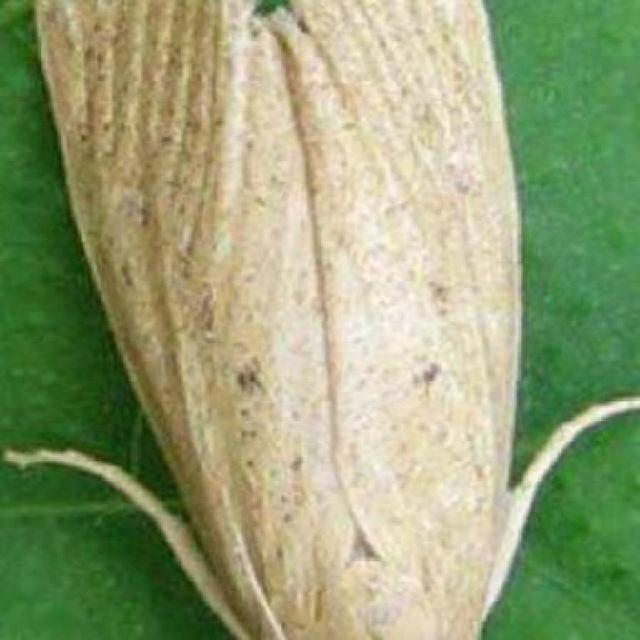stem-borer: (23, 0, 574, 640)
